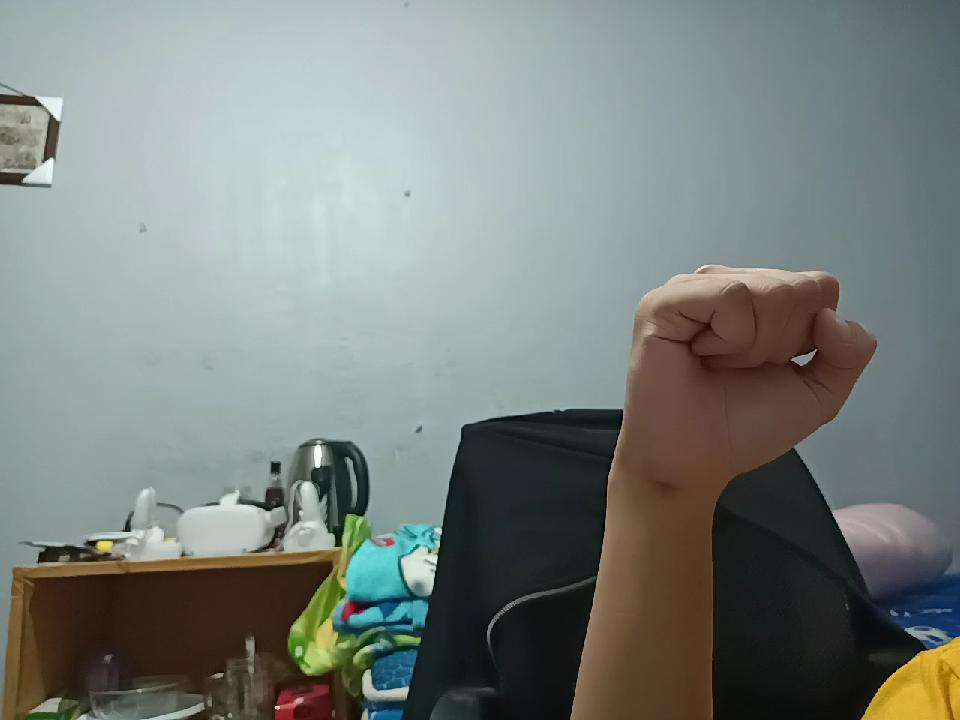rock: (623, 248, 893, 458)
